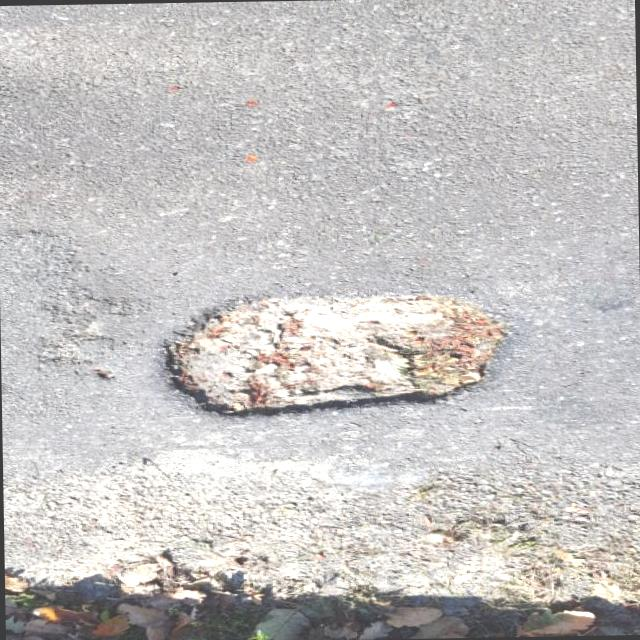pothole: (160, 282, 520, 422)
